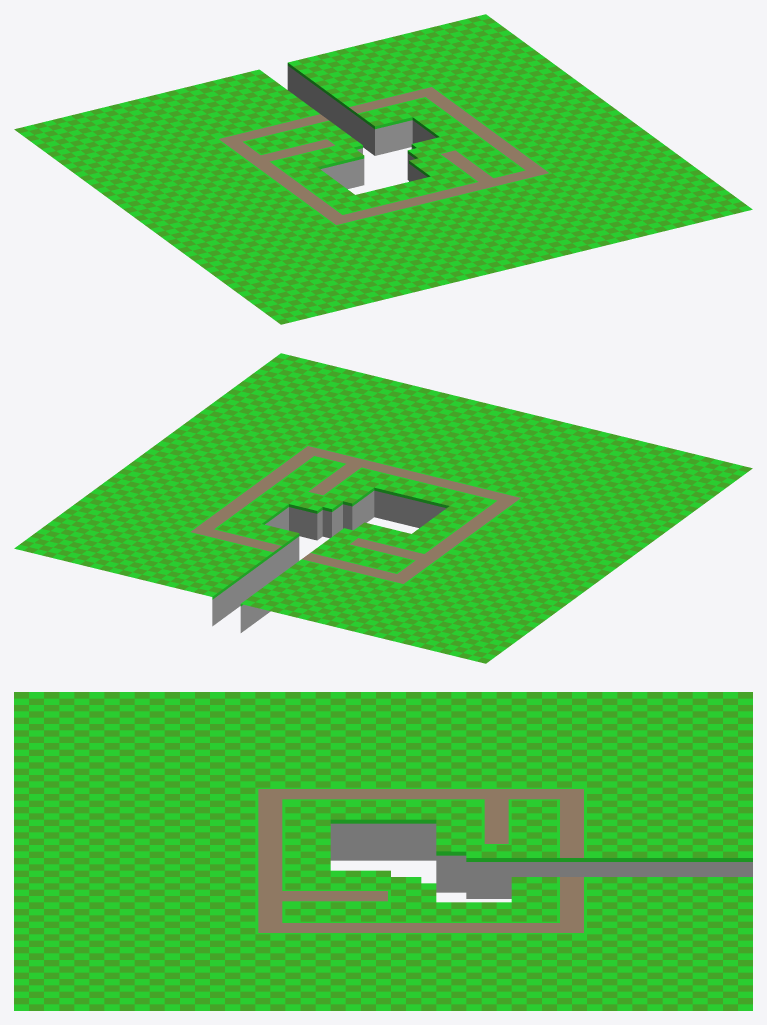
Rendered from Map 09 - 3.fbx.
3 views of the same model, one above another, from view 1: azimuth 30°, elevation 25°; view 2: azimuth 150°, elevation 25°; view 3: azimuth 270°, elevation 25° (orthographic). The views are drawn at different scales.
Parts seen in each view (by area): view 1: Plane.036, Plane.035; view 2: Plane.036, Plane.035; view 3: Plane.036, Plane.035.
Part boxes in pixels (bbox=[...]): Plane.036: bbox=[14, 14, 752, 324]; Plane.035: bbox=[219, 87, 548, 224]; Plane.036: bbox=[14, 353, 752, 663]; Plane.035: bbox=[191, 446, 520, 583]; Plane.036: bbox=[14, 692, 752, 1010]; Plane.035: bbox=[258, 789, 583, 932].
Size of the model in its own units: 500 by 30 by 490.
